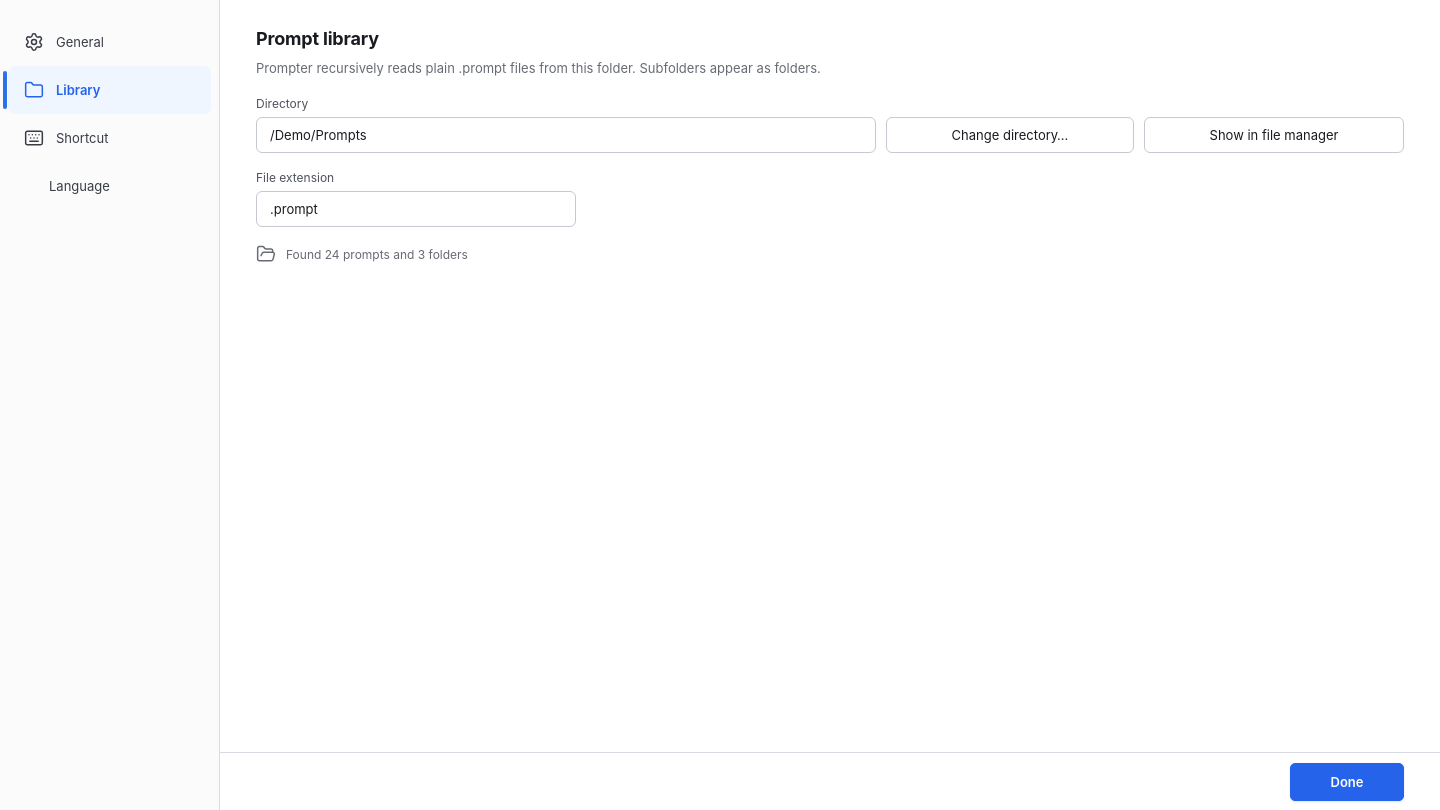
Test: Settings › restores confirmed settings and explains a failed update
Click the button "General" at (110, 42), box left=8, top=18, right=211, bottom=66
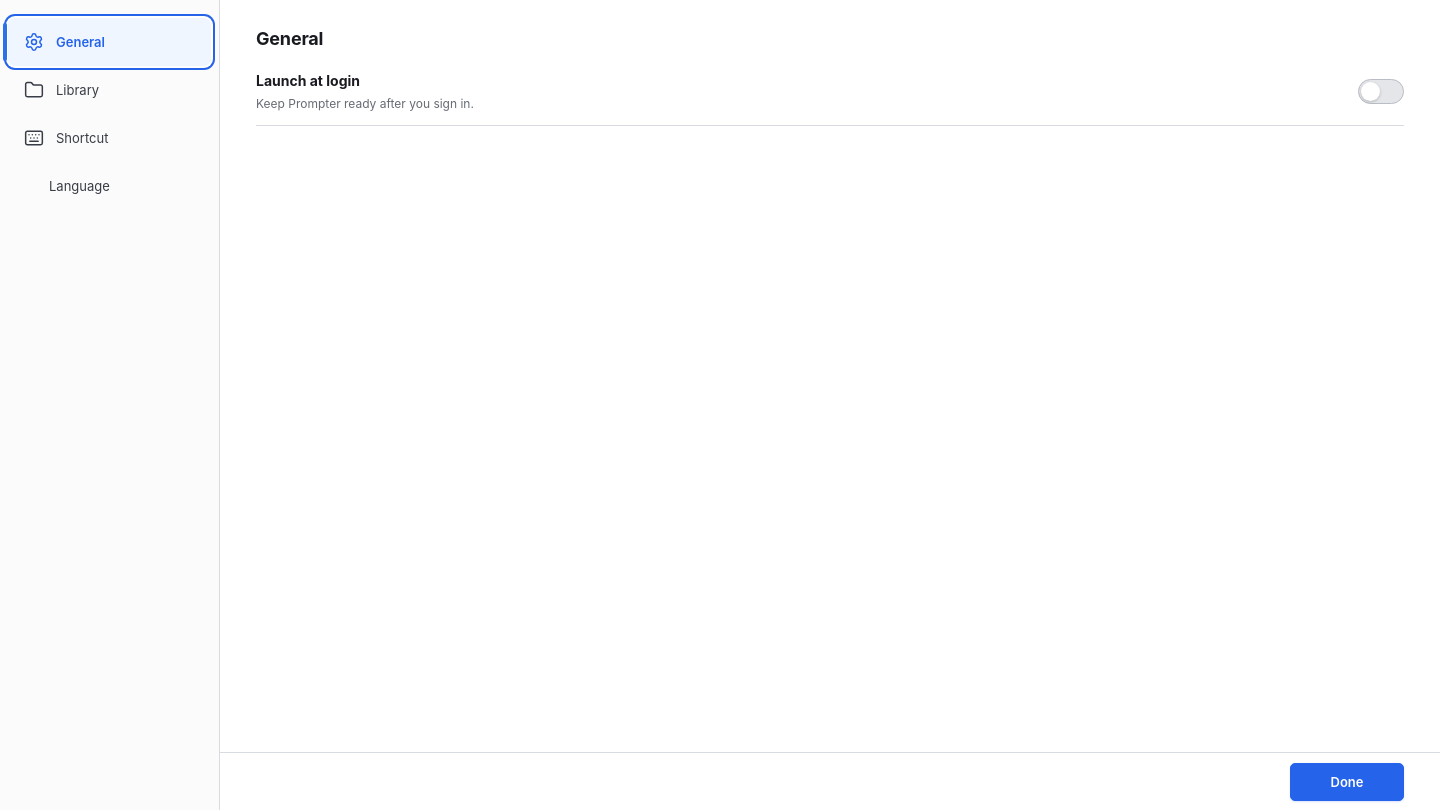
Click the switch named "Launch at login" at (1381, 92), box left=1358, top=79, right=1404, bottom=104
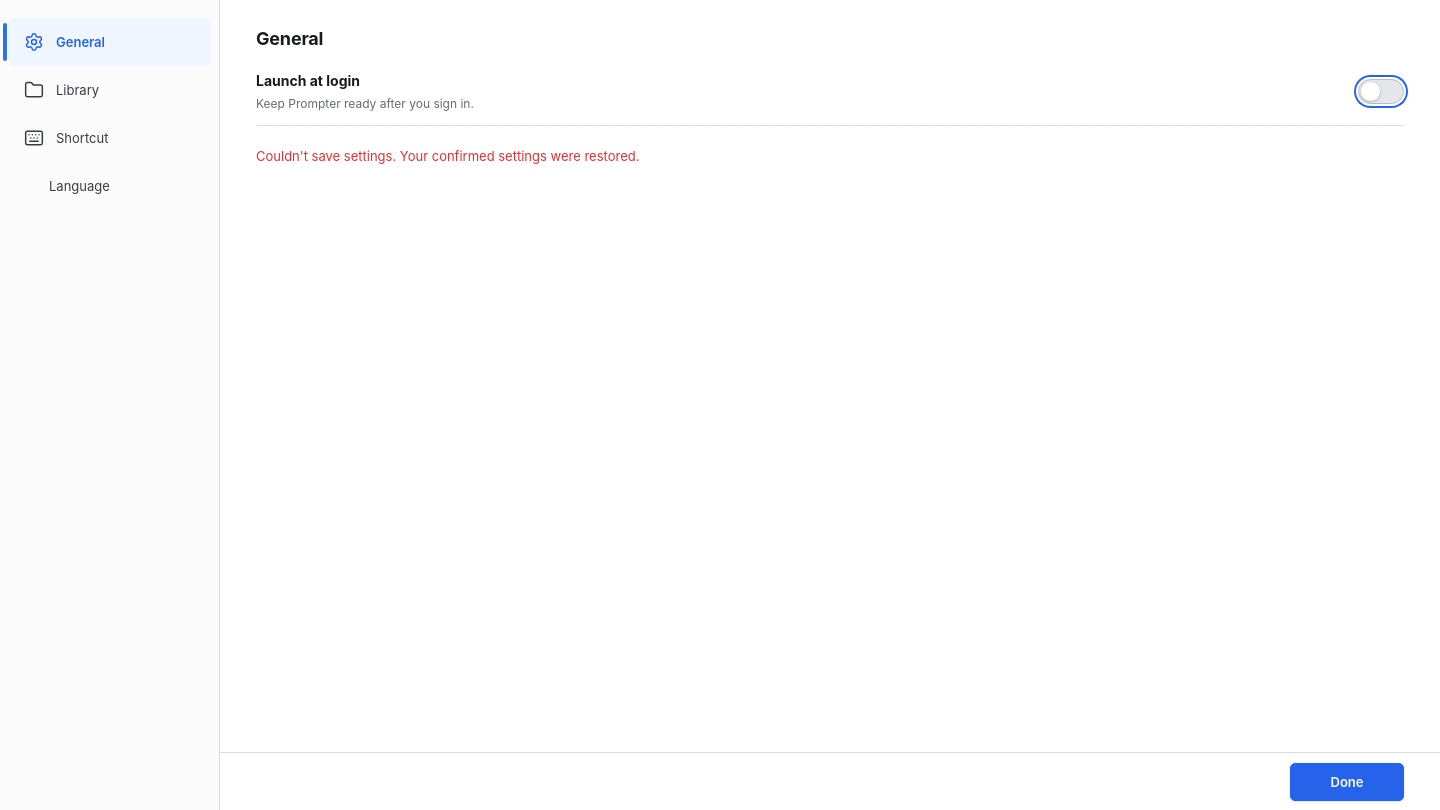
Expected: the switch named "Launch at login" is not checked, left=1358, top=79, right=1404, bottom=104
Expected: the text "Couldn't save settings. Your confirmed settings were restored." is shown, left=256, top=148, right=639, bottom=164
